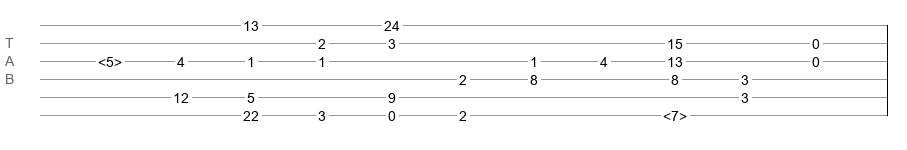0: (388, 108, 396, 118), (812, 36, 820, 46), (812, 54, 820, 64)
1: (247, 54, 255, 64), (318, 54, 326, 64), (530, 54, 538, 64)
12: (173, 90, 189, 100)
13: (243, 18, 259, 28), (667, 54, 683, 64)
15: (667, 36, 683, 46)
2: (318, 36, 326, 46), (459, 108, 467, 118), (459, 72, 467, 82)
22: (243, 108, 259, 118)
24: (384, 18, 400, 28)
3: (318, 108, 326, 118), (388, 36, 396, 46), (741, 72, 749, 82), (741, 90, 749, 100)
4: (177, 54, 185, 64), (600, 54, 608, 64)
5: (247, 90, 255, 100)
8: (530, 72, 538, 82), (671, 72, 679, 82)
9: (388, 90, 396, 100)
harmonic: (98, 54, 122, 64), (663, 108, 687, 118)
